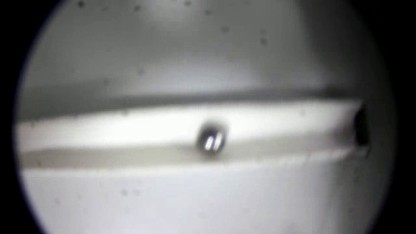gangzhu: (196, 124, 228, 157)
